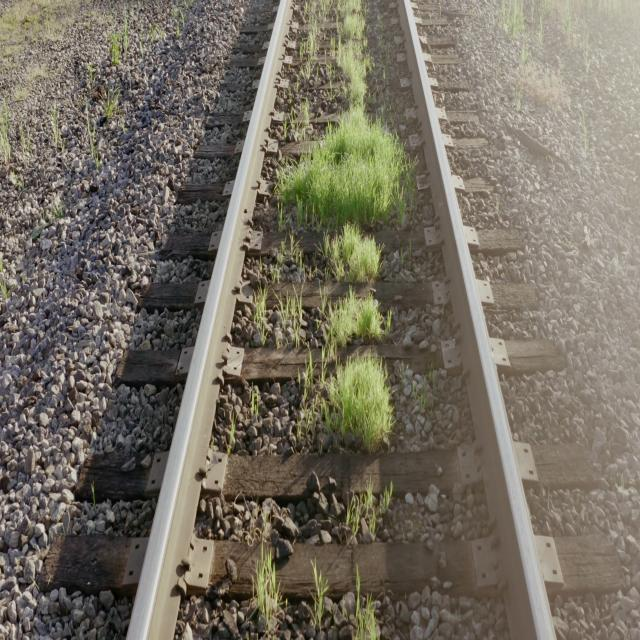Plant: (279, 0, 409, 282), (300, 302, 391, 447), (330, 356, 392, 451), (310, 567, 380, 640), (329, 291, 390, 351), (254, 551, 288, 636), (252, 544, 282, 633), (345, 482, 375, 536), (279, 298, 301, 340), (255, 291, 266, 322)
